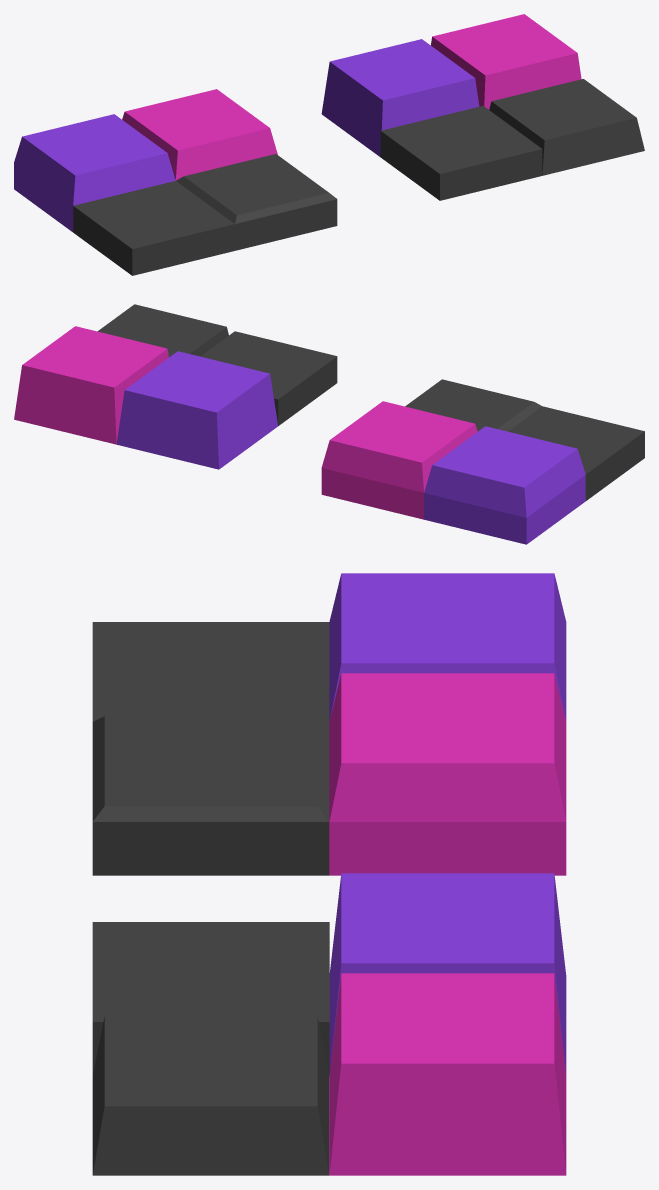
The model's file is TestCells.fbx.
The picture shows the model from 3 angles, top to bottom: view 1: azimuth 30°, elevation 25°; view 2: azimuth 150°, elevation 25°; view 3: azimuth 270°, elevation 25°; orthographic projection. The views are drawn at different scales.
Parts seen in each view (by area): view 1: Cell1_High, Cell1_Low, Cell3_Low, Cell3_High, Cell4_High, Cell4_Low, Cell2_Low, Cell2_High; view 2: Cell1_High, Cell1_Low, Cell2_High, Cell2_Low, Cell3_Low, Cell3_High, Cell4_High, Cell4_Low; view 3: Cell2_High, Cell2_Low, Cell4_High, Cell4_Low, Cell1_Low, Cell1_High, Cell3_Low, Cell3_High.
Part boxes in pixels (bbox=[...]): Cell1_High: bbox=[14, 114, 175, 232]; Cell1_Low: bbox=[321, 39, 479, 157]; Cell3_Low: bbox=[380, 106, 542, 200]; Cell3_High: bbox=[73, 181, 234, 275]; Cell4_High: bbox=[176, 154, 337, 250]; Cell4_Low: bbox=[489, 79, 644, 175]; Cell2_Low: bbox=[431, 14, 581, 109]; Cell2_High: bbox=[122, 89, 277, 180]; Cell1_High: bbox=[424, 426, 585, 544]; Cell1_Low: bbox=[116, 351, 277, 469]; Cell2_High: bbox=[321, 401, 477, 519]; Cell2_Low: bbox=[14, 326, 168, 444]; Cell3_Low: bbox=[200, 331, 337, 425]; Cell3_High: bbox=[508, 406, 644, 500]; Cell4_High: bbox=[405, 379, 541, 431]; Cell4_Low: bbox=[97, 304, 228, 357]; Cell2_High: bbox=[329, 673, 566, 875]; Cell2_Low: bbox=[329, 973, 566, 1175]; Cell4_High: bbox=[92, 716, 329, 875]; Cell4_Low: bbox=[92, 1016, 329, 1175]; Cell1_Low: bbox=[329, 873, 566, 1074]; Cell1_High: bbox=[329, 573, 566, 721]; Cell3_Low: bbox=[92, 922, 329, 1075]; Cell3_High: bbox=[92, 622, 329, 721].
Bounding box in the file's own units: 5 × 0.5 × 2.
